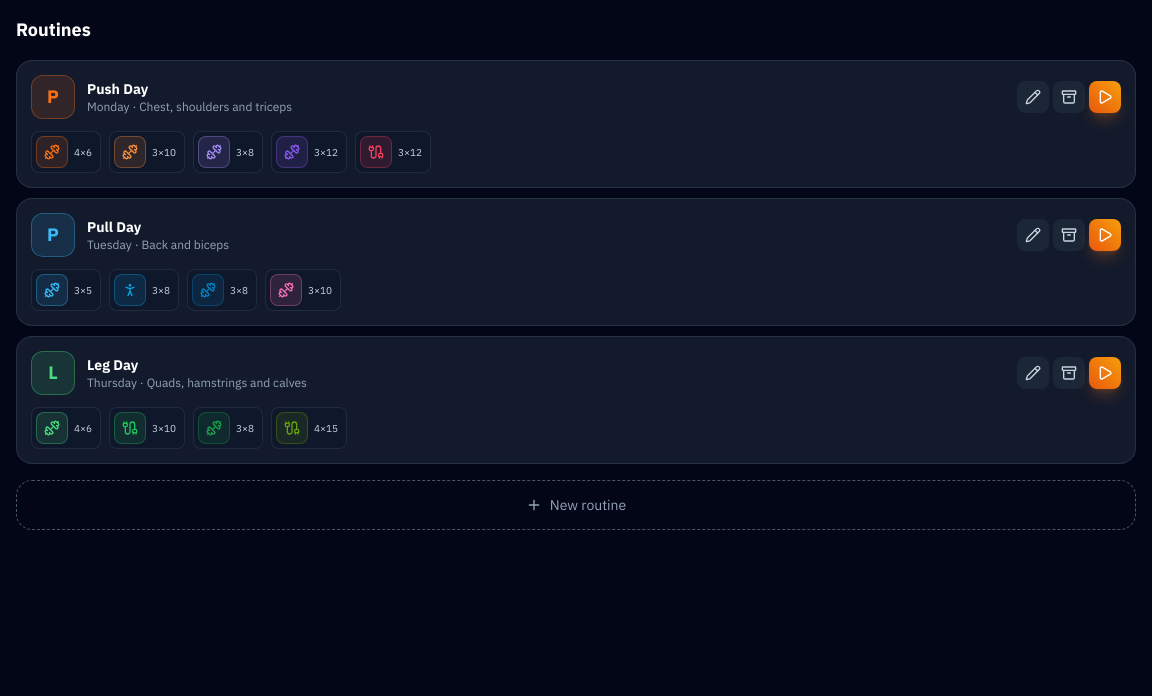
Scenario: RoutinesScreen › rejects an editor save with a duplicate exercise
Click the button titled "Edit routine" in the row of "Chest, shoulders and triceps" at (1033,97), box top-left (1017, 81), bottom-right (1049, 113)
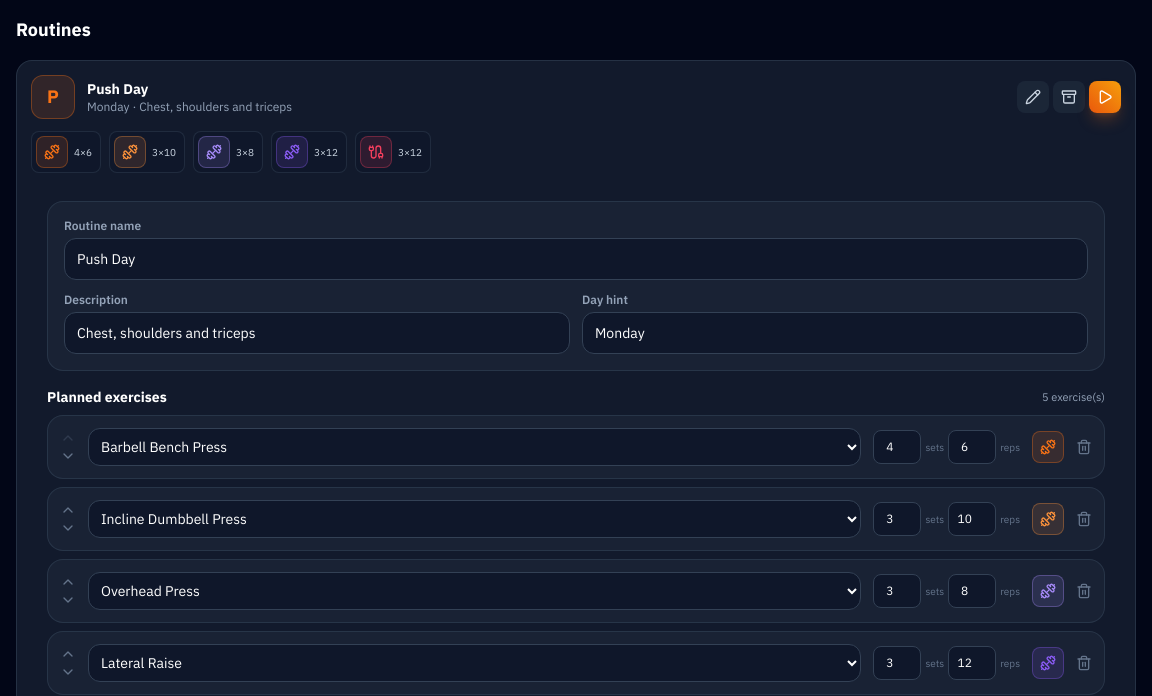
// Force the first two lines to the same exercise via their selects.
Select "Barbell Bench Press" in the 2nd dropdown named "Exercise" at (475,519), box top-left (88, 500), bottom-right (862, 538)
(page scrolled)
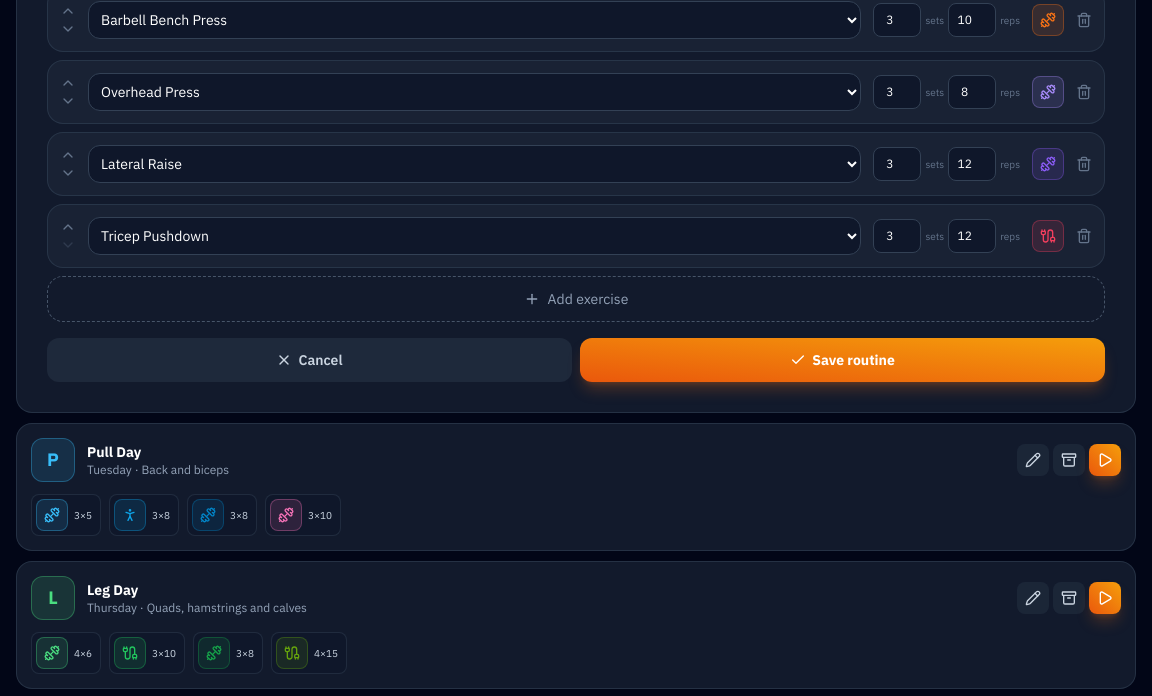
Click the button "Save routine" at (842,360), box top-left (580, 338), bottom-right (1105, 382)
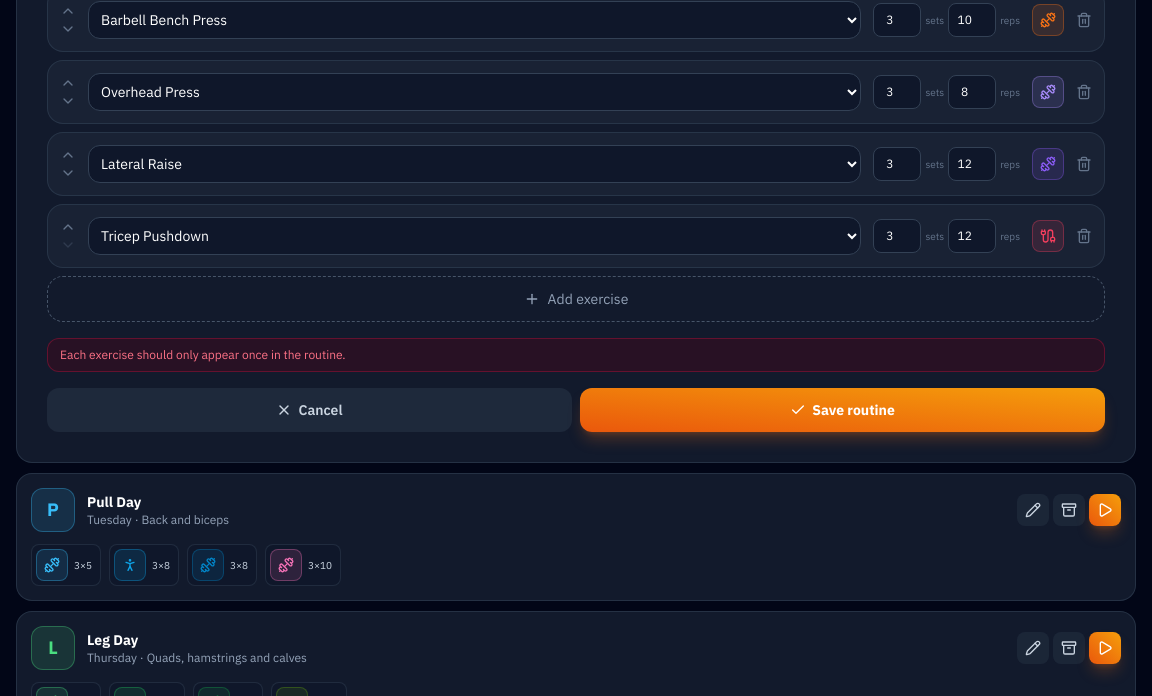
Check: the text "Each exercise should only appear once in the routine." is shown, box top-left (47, 338), bottom-right (1105, 372)
